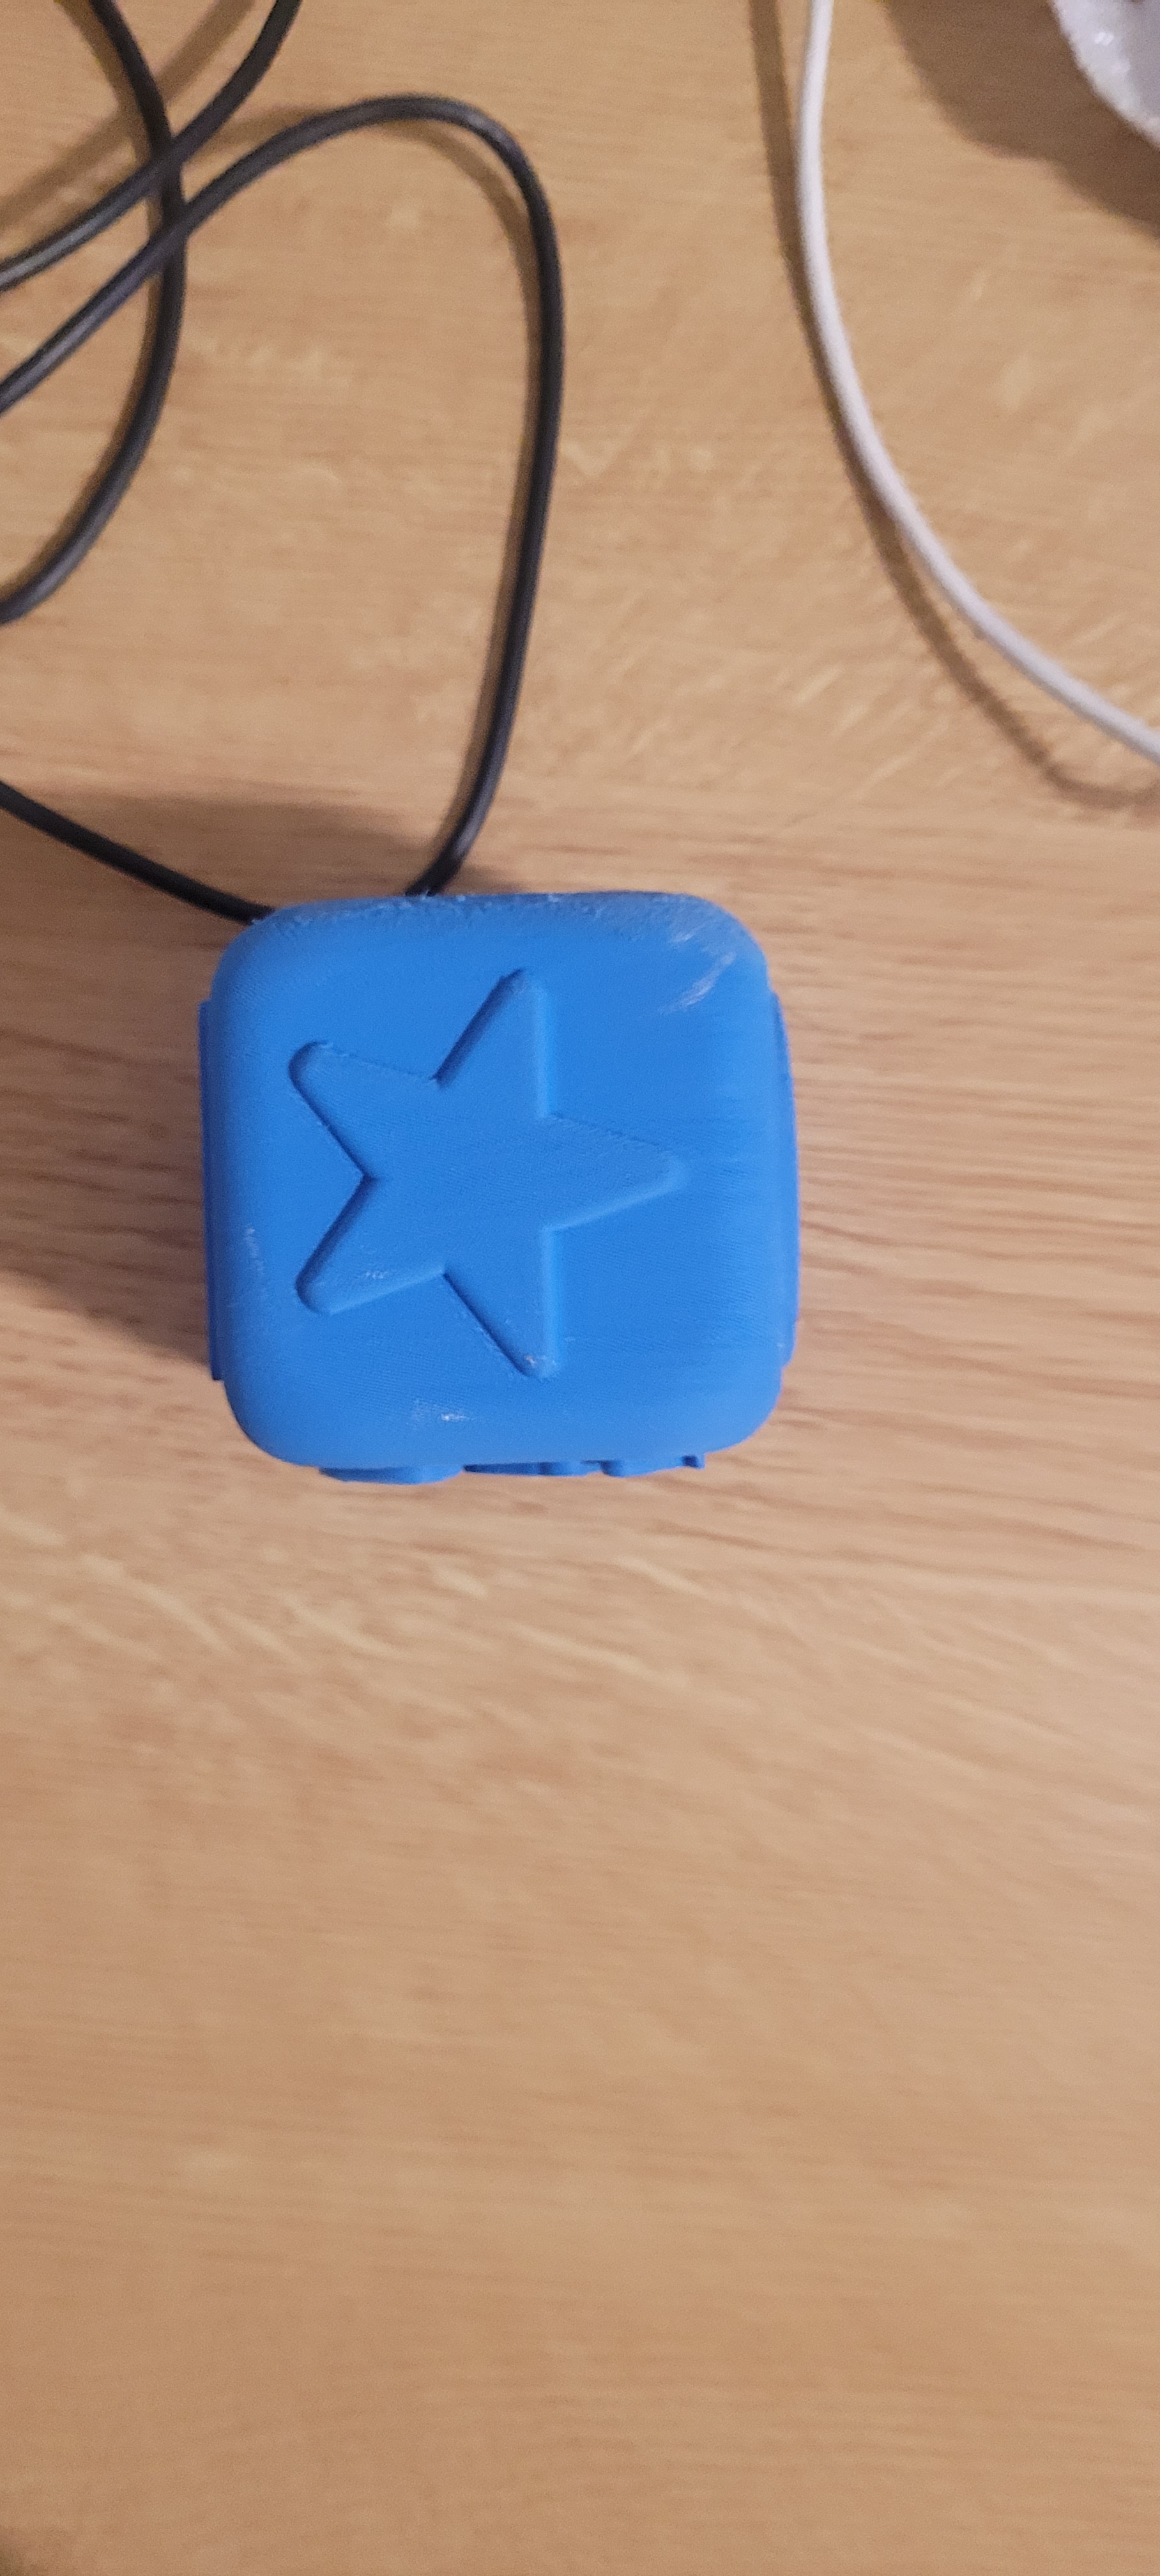Star: (242, 943, 721, 1380)
